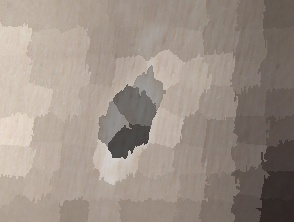vitiligo: (50, 36, 214, 211)
